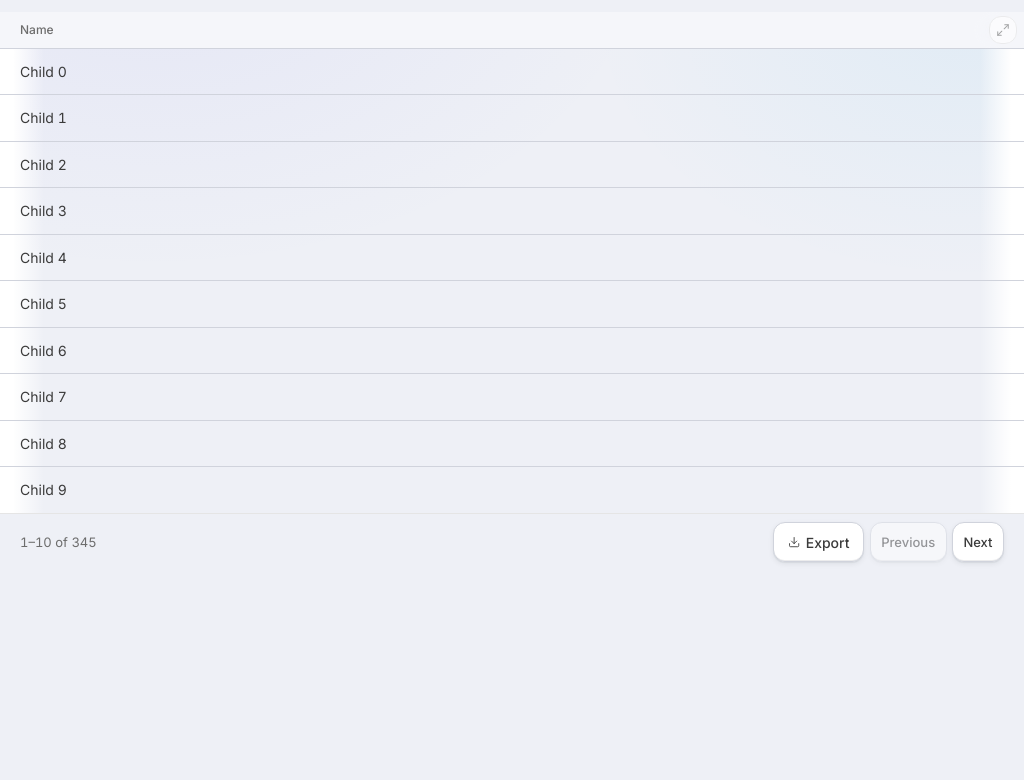
Test: a table told the list continues › keeps the reader in place when the next page arrives
Click the button "Next" at (978, 542), box [952,522,1004,562]
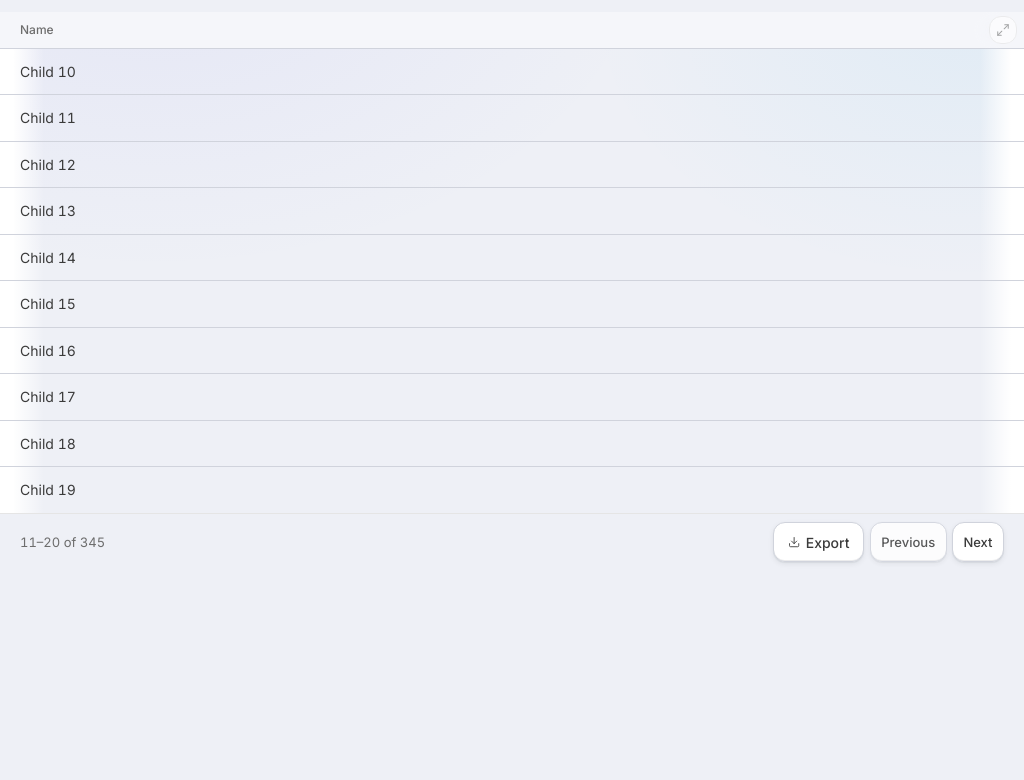
Click the button "Next" at (978, 542), box [952,522,1004,562]
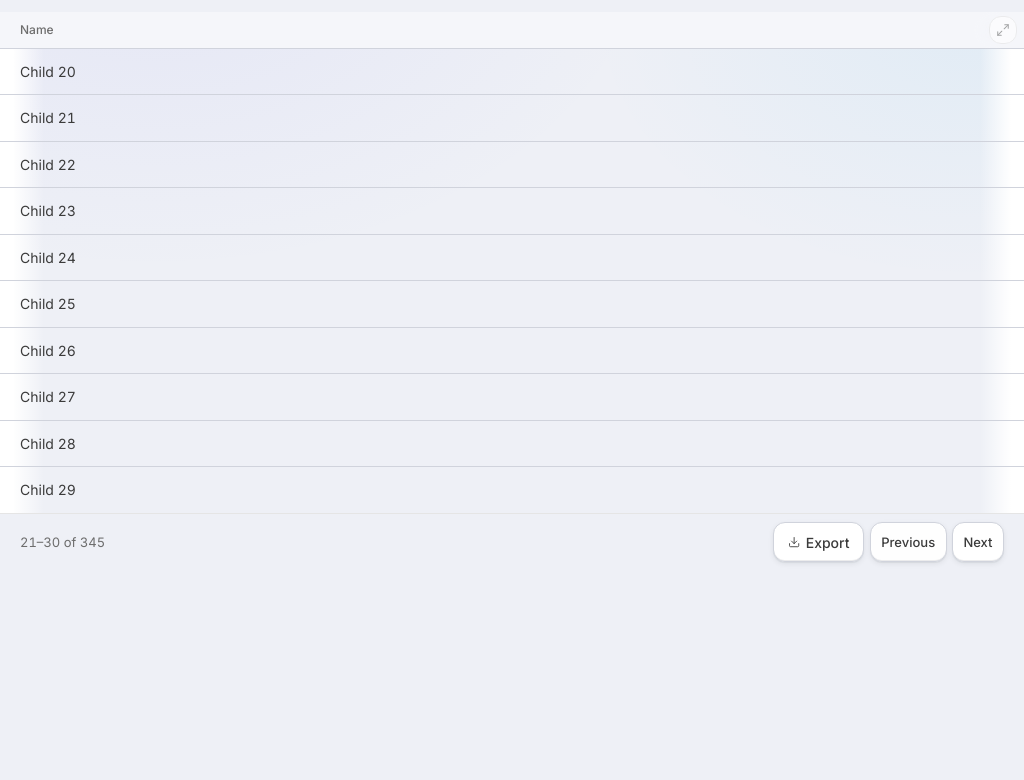
expect the text with class "tabular-nums" reads "21–30 of 345": met, box [20,532,105,552]
